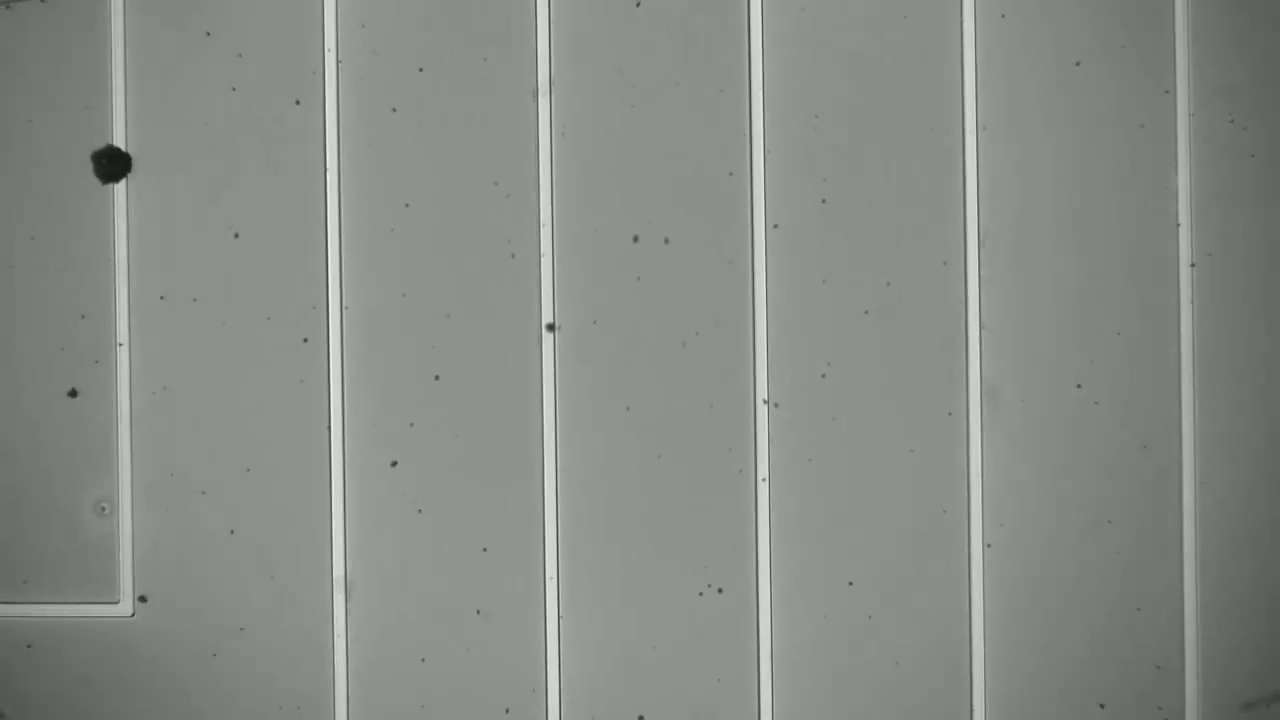stains_enbedded: (74, 130, 142, 195), (535, 316, 561, 343)
